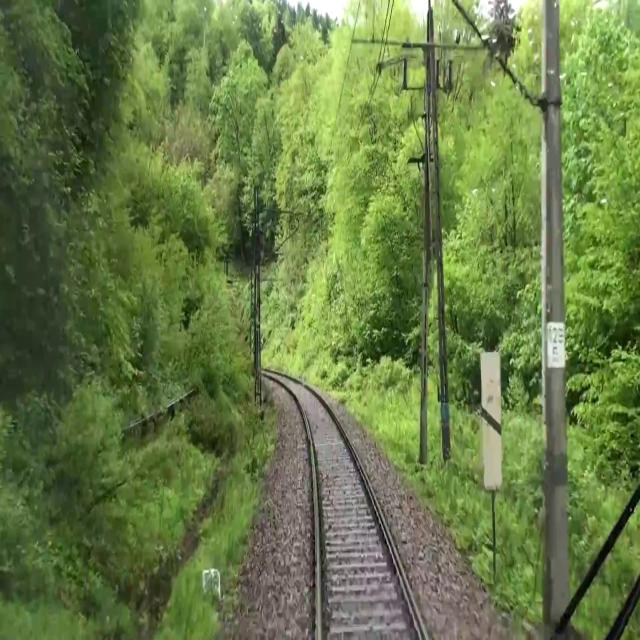rail-track: (282, 378, 423, 639)
